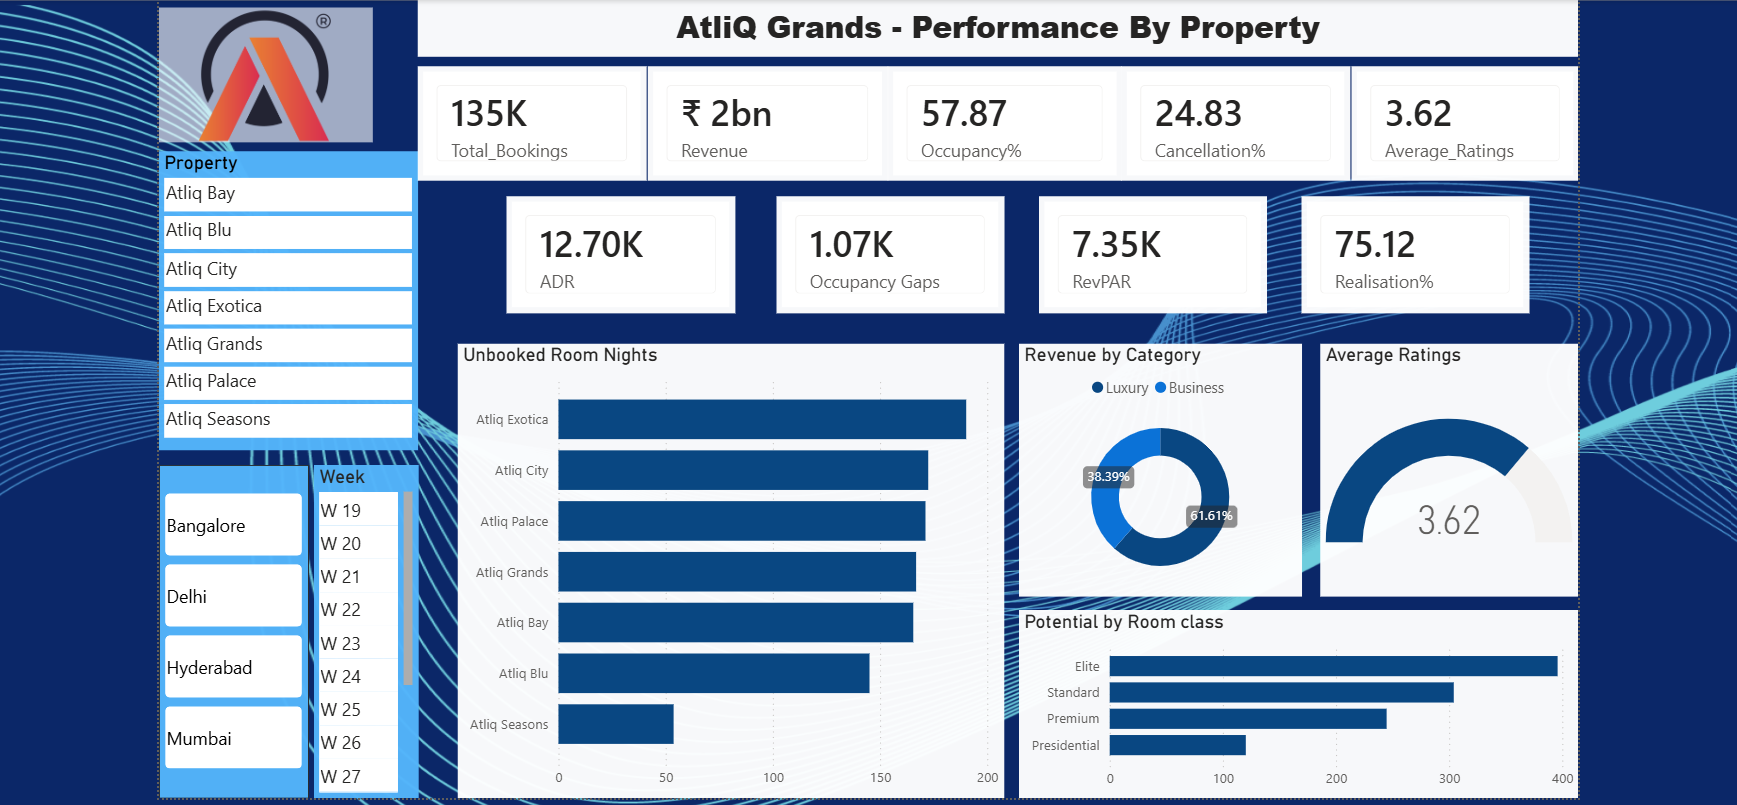

This screenshot's page, from the dashboard's own definition file:
{"tool":"powerbi","page":{"name":"Page 2","canvas":[1280,720],"ordinal":1},"visuals":[{"type":"advancedSlicerVisual","fields":{"Values":["dim_hotels.city"]},"box":[0,419.2,135.6,301],"z":0},{"type":"listSlicer","fields":{"Values":["dim_hotels.property_name"]},"box":[0,136,233.7,269.8],"z":1000},{"type":"cardVisual","fields":{"Data":["Key Measures.Total_Bookings"]},"box":[233.9,59.7,206.5,103.2],"z":2000},{"type":"cardVisual","fields":{"Data":["Key Measures.Revenue"]},"box":[440.4,59.7,216.4,103.2],"z":3000},{"type":"cardVisual","fields":{"Data":["Key Measures.Occupancy%"]},"box":[656.8,59.7,211.5,103.2],"z":4000},{"type":"cardVisual","fields":{"Data":["Key Measures.Cancellation%"]},"box":[868.3,59.7,206.5,103.2],"z":5000},{"type":"cardVisual","fields":{"Data":["Key Measures.Average_Ratings"]},"box":[1074.8,59.7,205.3,103.2],"z":6000},{"type":"cardVisual","fields":{"Data":["Key Measures.ADR"]},"box":[313.5,176.6,206.5,105.7],"z":7000},{"type":"cardVisual","fields":{"Data":["Key Measures.Potential"]},"box":[557.3,176.6,205.3,105.7],"z":8000},{"type":"cardVisual","fields":{"Data":["Key Measures.RevPAR"]},"box":[793.6,176.6,205.3,105.7],"z":9000},{"type":"cardVisual","fields":{"Data":["Key Measures.Realisation%"]},"box":[1030,176.6,205.3,105.7],"z":10000},{"type":"barChart","title":"Unbooked Room Nights","fields":{"Category":["dim_hotels.property_name"],"Y":["Key Measures.Potential"]},"box":[269.9,309.7,492.6,409.3],"z":11000},{"type":"donutChart","title":"Revenue by Category","fields":{"Category":["dim_hotels.category"],"Y":["Key Measures.Revenue"]},"box":[775,309.7,255,227.6],"z":12000},{"type":"barChart","title":"Potential by Room class","fields":{"Category":["dim_rooms.room_class"],"Y":["Key Measures.Potential"]},"box":[775,549.8,505,170.4],"z":13000},{"type":"gauge","fields":{"Y":["Key Measures.Average_Ratings"]},"box":[1047.4,309.7,232.6,227.6],"z":14000},{"type":"textbox","box":[233.9,0,1046.2,51],"z":15000},{"type":"listSlicer","title":"Week","fields":{"Values":["dim_date.week_no"]},"box":[139.3,419.2,94.5,301],"z":16000},{"type":"image","box":[0,6.2,192.8,121.9],"z":17000}]}

Visuals, with their boxes in screenshot pixels (x1, y1, x2, y2):
advancedSlicerVisual - dim_hotels.city: (158, 458, 308, 790)
listSlicer - dim_hotels.property_name: (158, 145, 416, 443)
cardVisual - Key Measures.Total_Bookings: (416, 61, 644, 175)
cardVisual - Key Measures.Revenue: (644, 61, 883, 175)
cardVisual - Key Measures.Occupancy%: (883, 61, 1116, 175)
cardVisual - Key Measures.Cancellation%: (1116, 61, 1344, 175)
cardVisual - Key Measures.Average_Ratings: (1344, 61, 1570, 175)
cardVisual - Key Measures.ADR: (504, 190, 732, 307)
cardVisual - Key Measures.Potential: (773, 190, 999, 307)
cardVisual - Key Measures.RevPAR: (1034, 190, 1260, 307)
cardVisual - Key Measures.Realisation%: (1294, 190, 1521, 307)
"Unbooked Room Nights" barChart: (456, 337, 999, 788)
"Revenue by Category" donutChart: (1013, 337, 1294, 588)
"Potential by Room class" barChart: (1013, 602, 1570, 790)
gauge - Key Measures.Average_Ratings: (1313, 337, 1570, 588)
textbox: (416, 0, 1570, 52)
"Week" listSlicer: (312, 458, 416, 790)
image: (158, 2, 371, 137)
